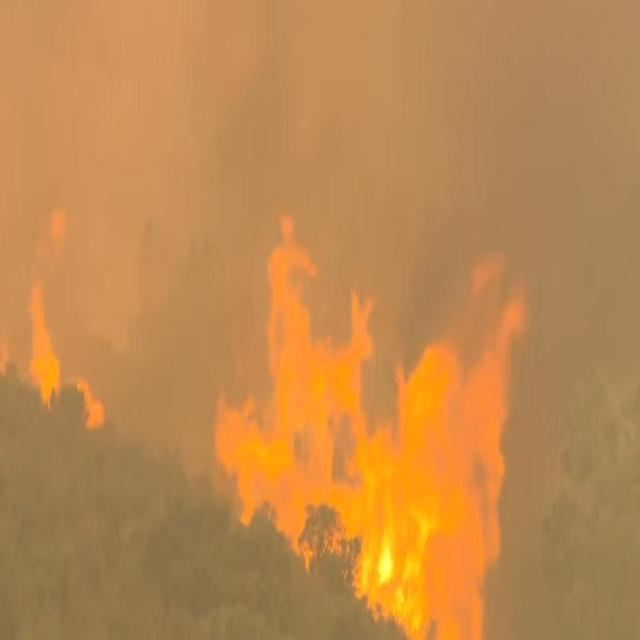Fire: (216, 204, 530, 640), (27, 276, 66, 412), (72, 369, 106, 430), (48, 208, 68, 252)
Smoke: (216, 0, 639, 347), (509, 352, 640, 640), (105, 196, 214, 462)
